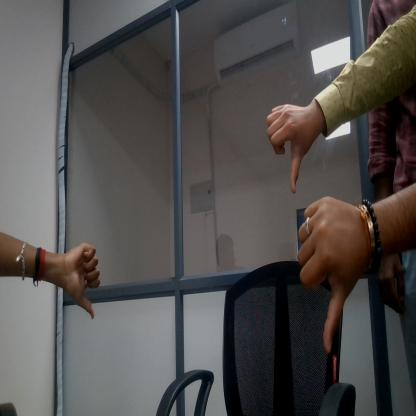Thumbs Down: (295, 188, 354, 360), (260, 88, 311, 190), (66, 236, 108, 332)
